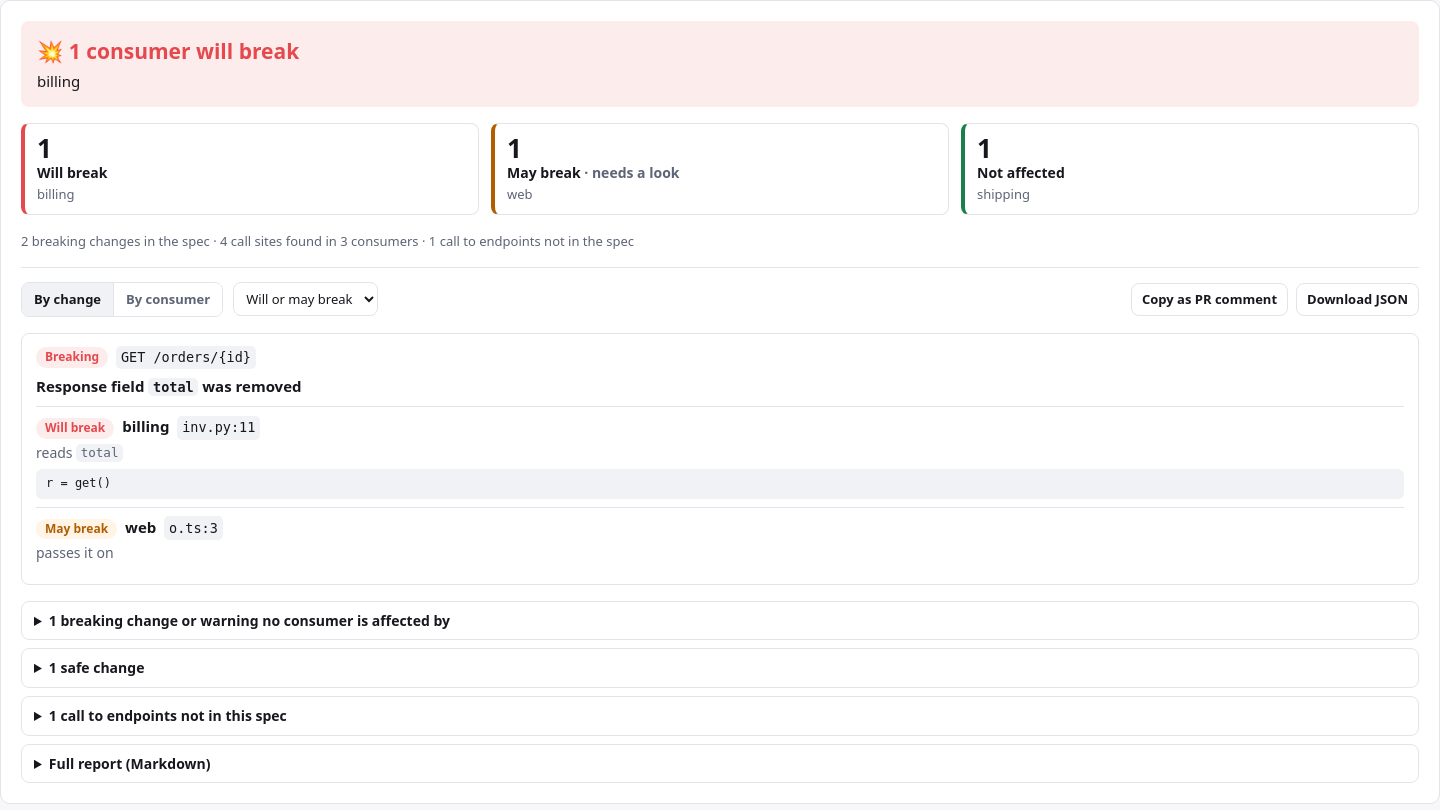
Test: Results › copies the PR comment
Click the button "Copy as PR comment" at (1210, 299), box left=1131, top=283, right=1288, bottom=316
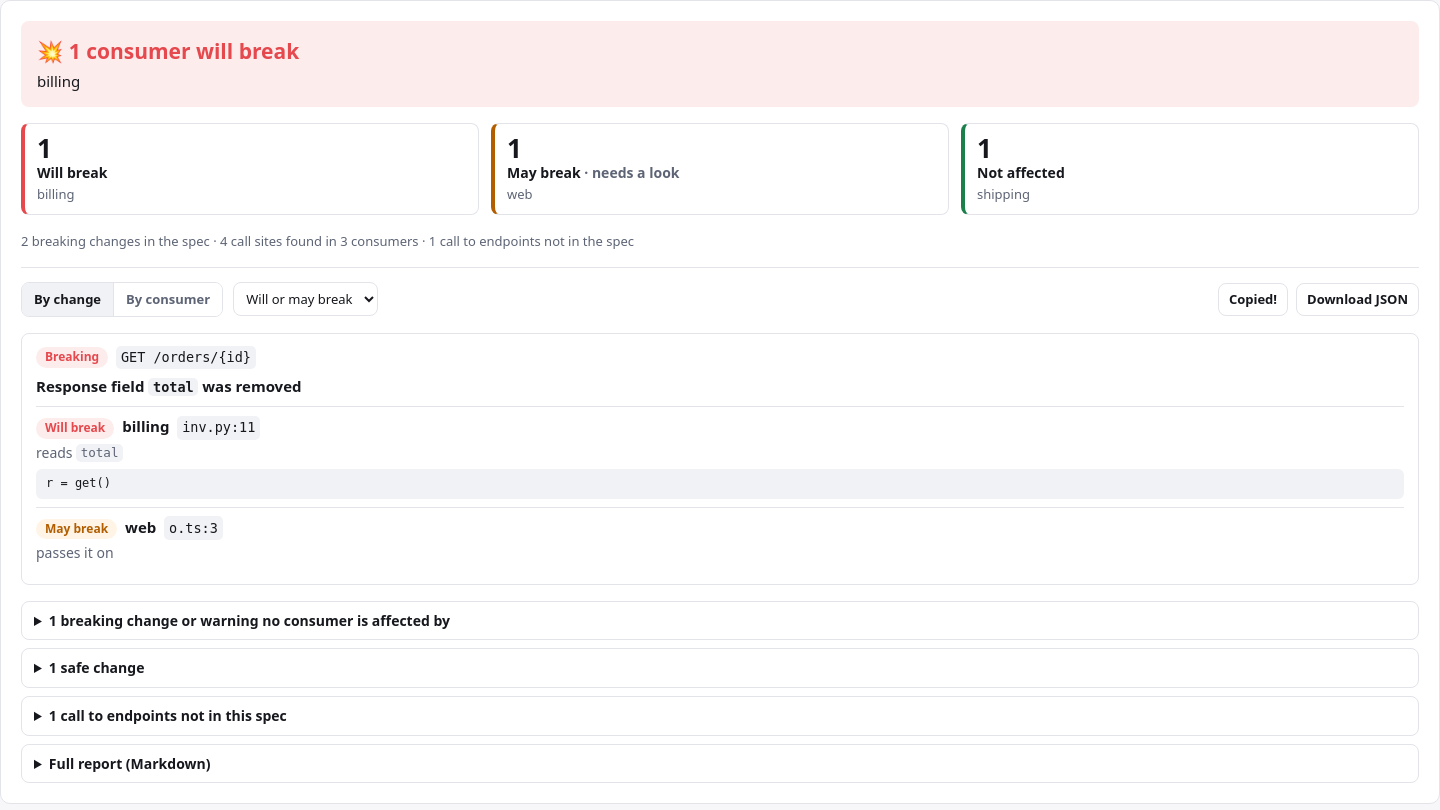
Expected: the button "Copied!" is shown, left=1218, top=283, right=1288, bottom=316
